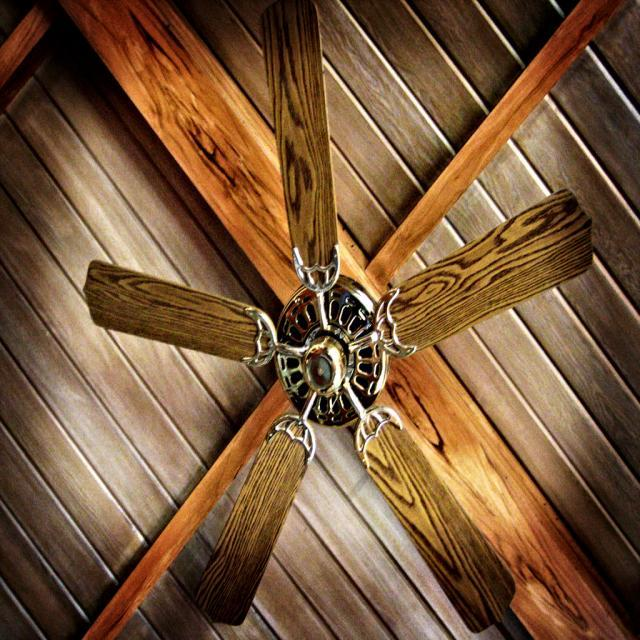fan_off: (82, 8, 600, 622)
